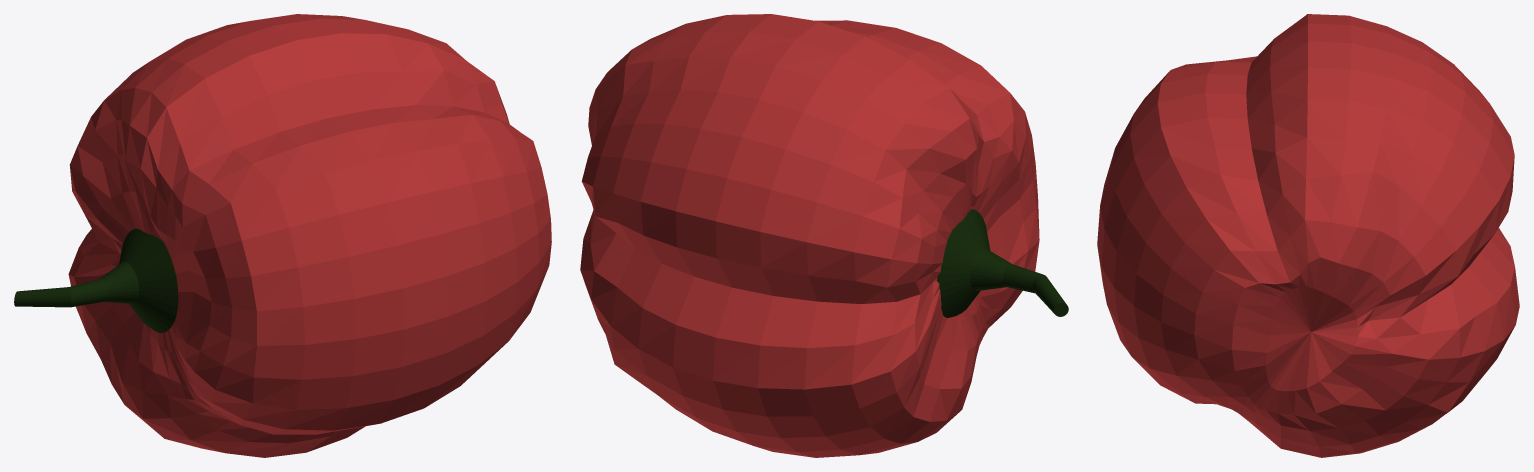
The model's file is CapsicumFruit_red.obj.
3 renders of one model, left to right at view 1: azimuth 30°, elevation 25°; view 2: azimuth 150°, elevation 25°; view 3: azimuth 270°, elevation 25°, orthographic. The views are drawn at different scales.
Parts seen in each view (by area): view 1: Sphere, Cylinder; view 2: Sphere, Cylinder; view 3: Sphere.
Boxes of the visible parts, x1,y1,x2,y2 form: Sphere: (68,14,551,457); Cylinder: (14,228,178,332); Sphere: (580,14,1039,457); Cylinder: (937,209,1068,317); Sphere: (1097,14,1519,457).
Size of the model in its own units: 1 by 0.8194 by 0.7948.
